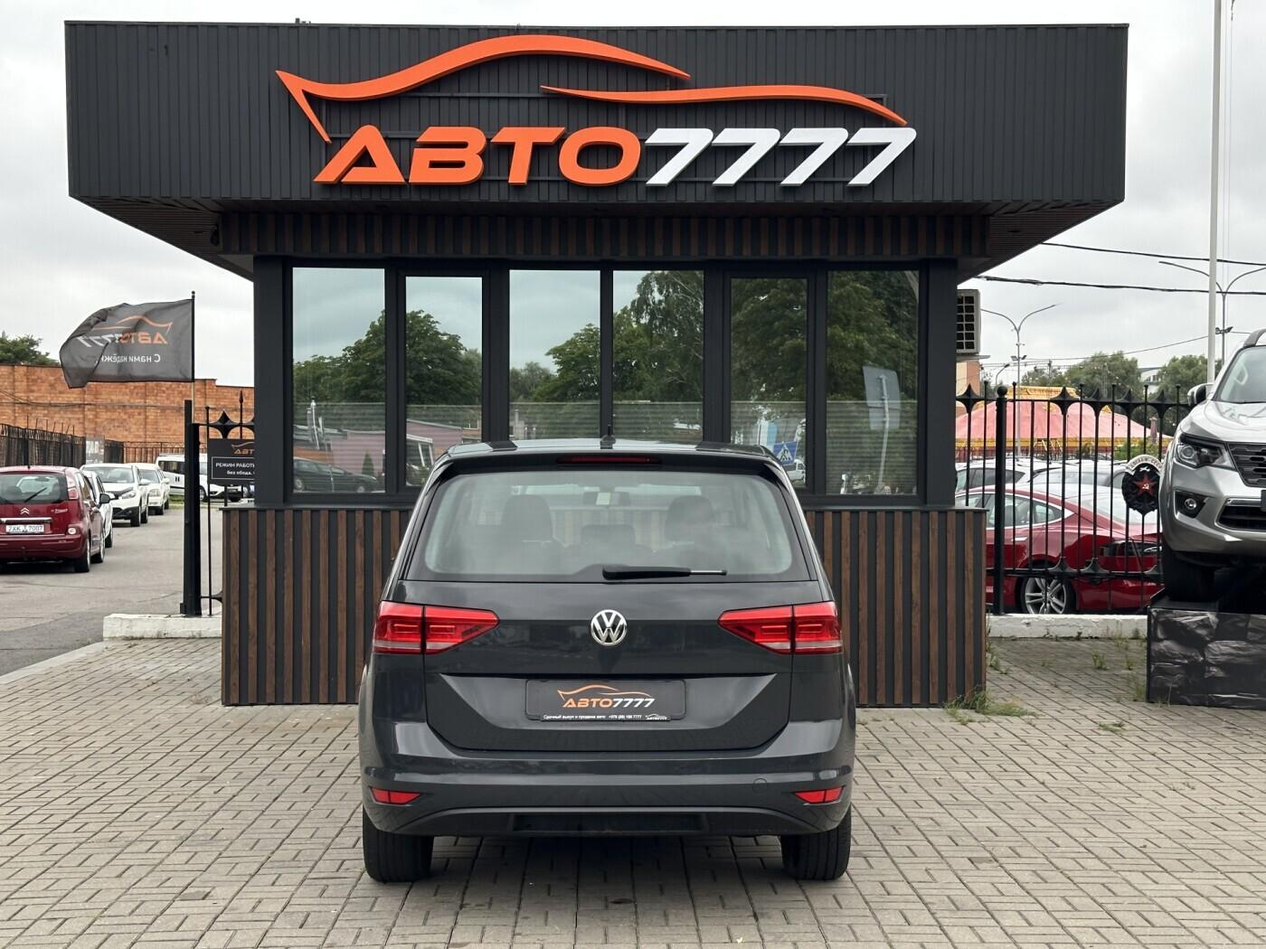Touran_2015: (358, 427, 863, 895)
